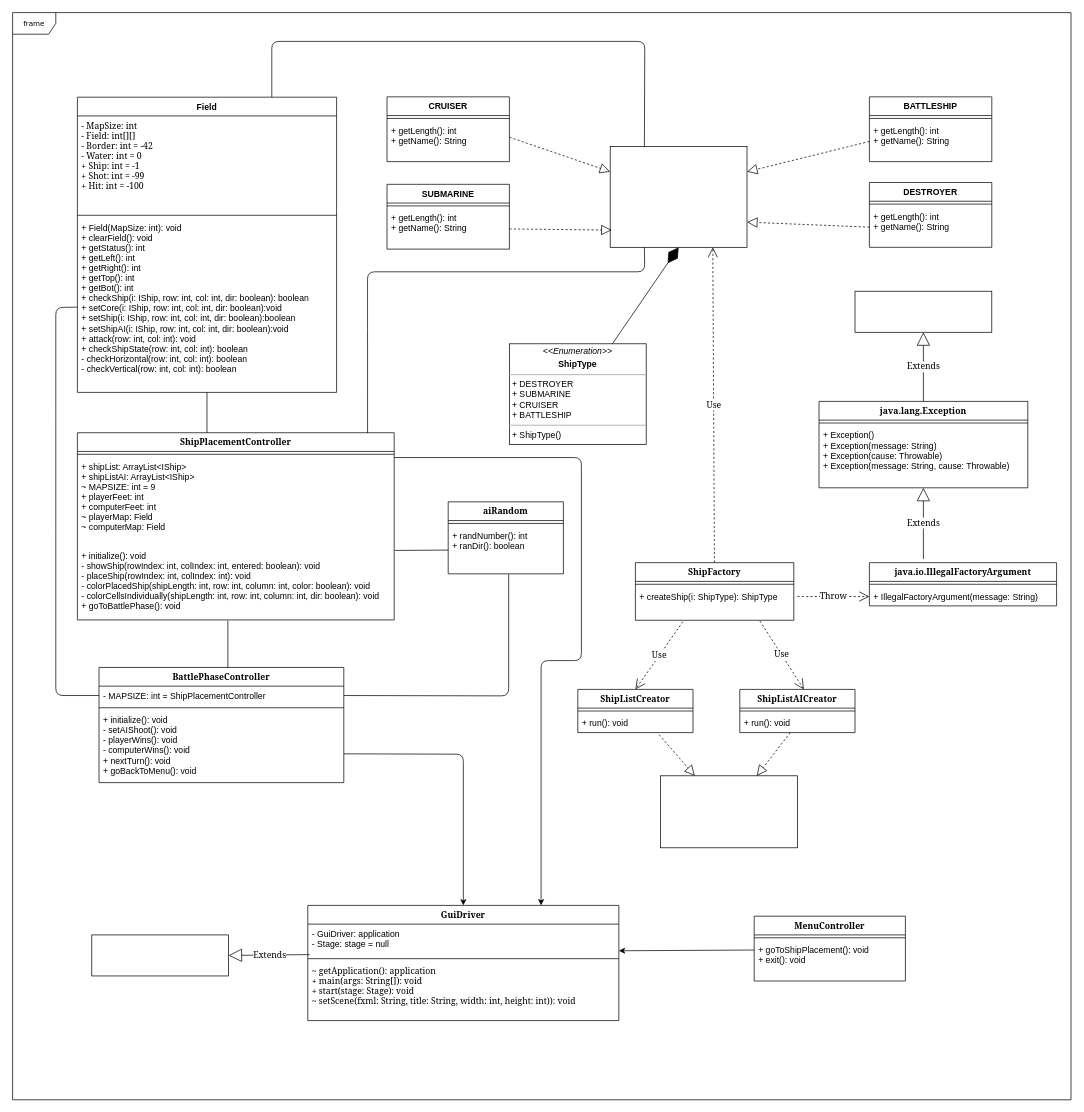
Image size: 1084x1112. Some labels were removed from this diagram. The centre of each missing label's shape, as x and y in pixels:
"<<Interface>> IShip + getLength(): int + getName(): String" belongs at (x=678, y=196).
"<<Interface>> Runnable + run(): void //abstract" belongs at (x=728, y=811).
"java.lang.Throwable" belongs at (x=923, y=311).
"{abstract] Application" belongs at (x=160, y=955).
